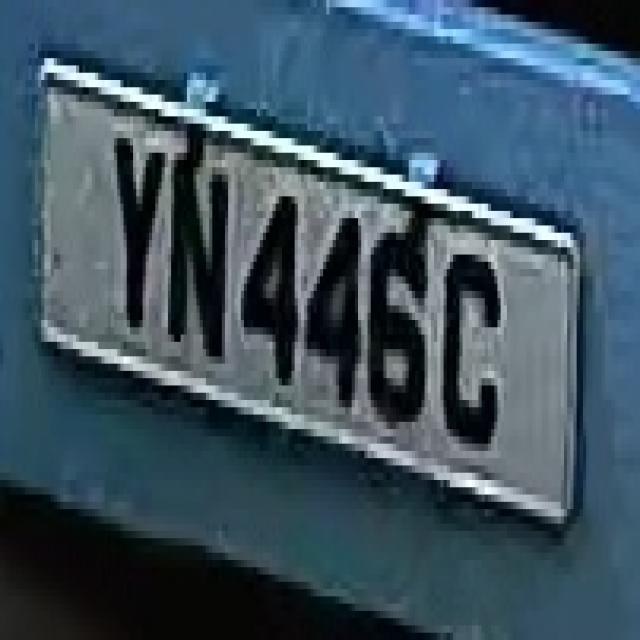4: (292, 182, 368, 436), (238, 153, 307, 429)
6: (361, 174, 434, 451)
C: (434, 211, 510, 473)
N: (165, 116, 234, 393)
Y: (105, 116, 174, 349)
